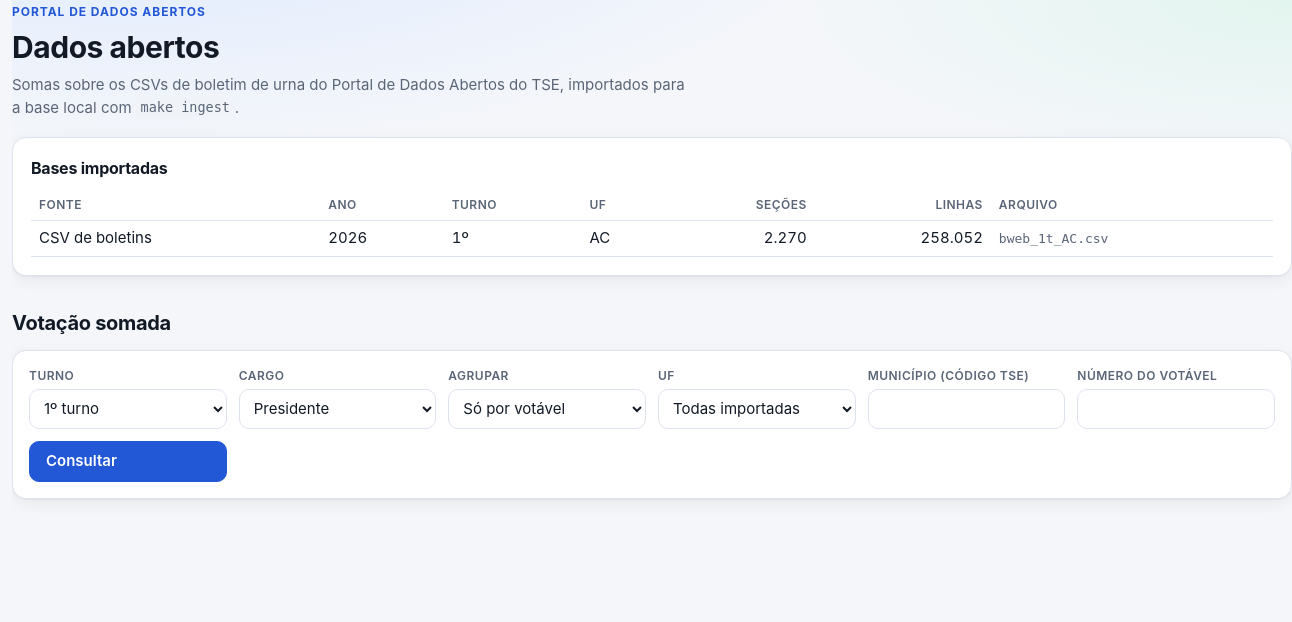
Test: OpenDataPage › lista importações e consulta a votação agrupada
The image size is (1292, 622).
Check: the text "258.052" is shown, box [815, 220, 991, 256]
Step 1. Select "Por UF" in the dropdown labelled "Agrupar" → (547, 408), box [448, 388, 646, 428]
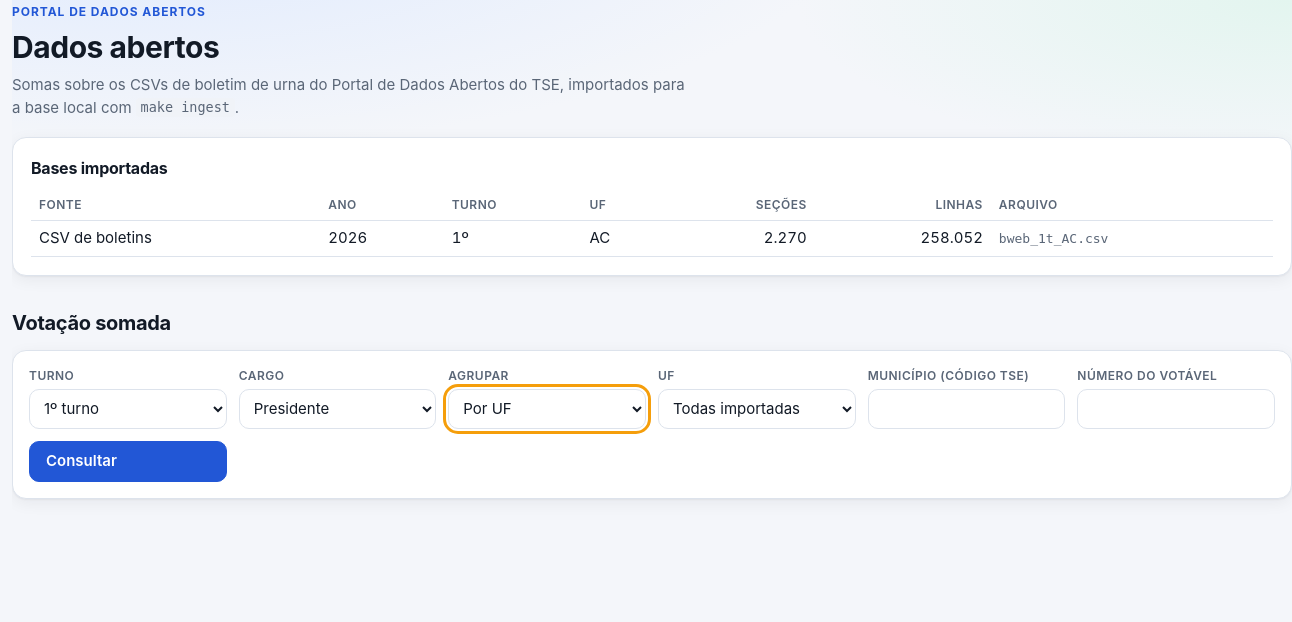
Step 2. Click the button "Consultar" → (128, 461), box [29, 441, 227, 482]
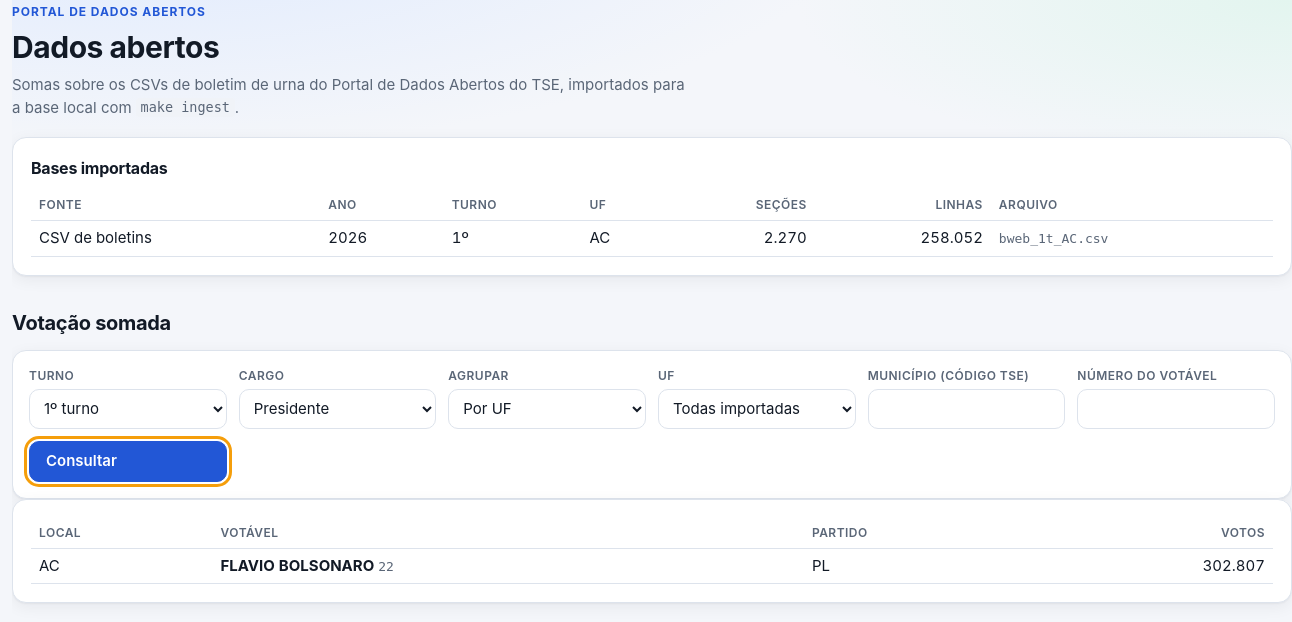
Check: the text "302.807" is shown, box [1028, 548, 1273, 584]
